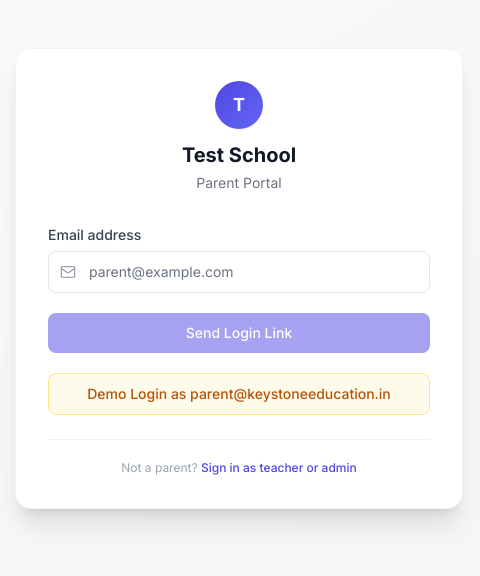
Test case: ParentLoginPage › demo login › shows fallback error message on demo login failure
Step 1. Click the button "Demo Login as parent@keystoneeducation.in" → [239, 394], box [48, 372, 430, 414]
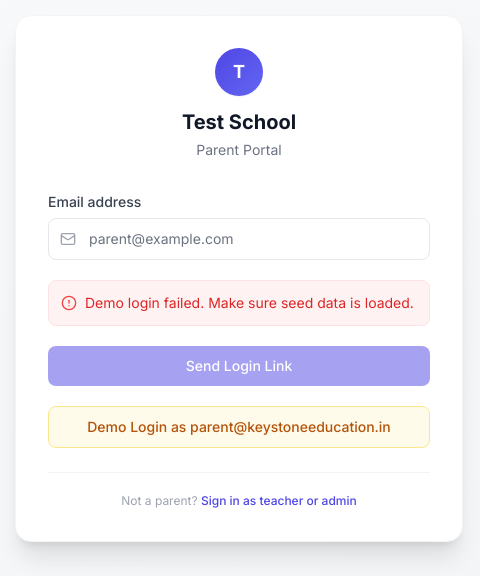
Check: the text "Demo login failed. Make sure seed data is loaded." is shown, box [85, 292, 414, 312]
